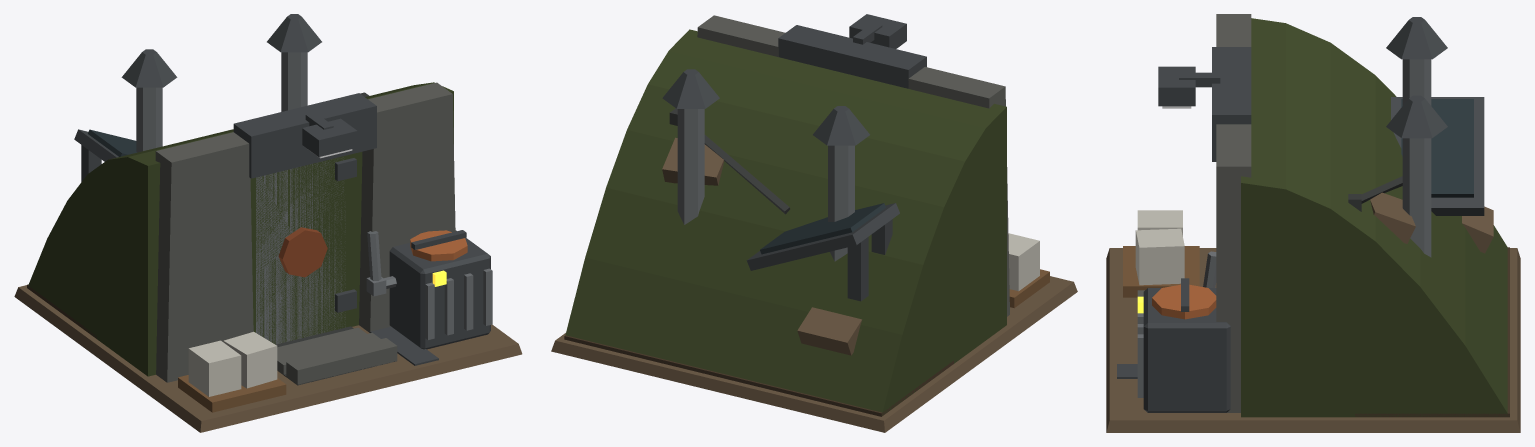
The model's file is cold_cellar_l2_powered.glb.
3 views of the same model, side by side, from view 1: azimuth 30°, elevation 25°; view 2: azimuth 150°, elevation 25°; view 3: azimuth 270°, elevation 25° (orthographic). The views are drawn at different scales.
Parts seen in each view (by area): view 1: cold_cellar_l2_powered_mesh; view 2: cold_cellar_l2_powered_mesh; view 3: cold_cellar_l2_powered_mesh.
Part boxes in pixels (x1,y1,x2,y2): cold_cellar_l2_powered_mesh: [14, 14, 522, 432]; cold_cellar_l2_powered_mesh: [551, 14, 1077, 432]; cold_cellar_l2_powered_mesh: [1106, 14, 1520, 432].
Bounding box in the file's own units: 2 × 1.53 × 2.
